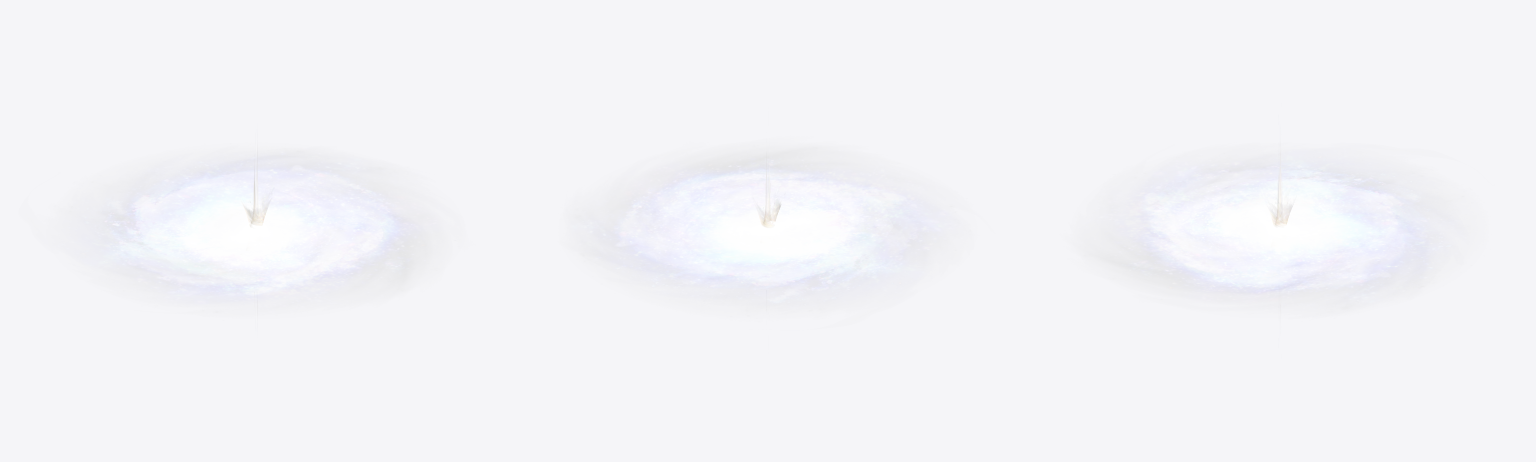
File: galaxy1.glb
3 views of the same model, side by side, from view 1: azimuth 30°, elevation 25°; view 2: azimuth 150°, elevation 25°; view 3: azimuth 270°, elevation 25° (orthographic).
Parts seen in each view (by area): view 1: spiral3_plane, spiral2_plane, spiral1_plane, spiral4_plane, spire; view 2: spiral3_plane, spiral2_plane, spiral1_plane, spiral4_plane, spire; view 3: spiral3_plane, spiral2_plane, spiral1_plane, spiral4_plane, spire.
Part boxes in pixels (<box>): spiral3_plane: <box>75,161,438,302</box>; spiral2_plane: <box>110,154,426,299</box>; spiral1_plane: <box>69,151,423,312</box>; spiral4_plane: <box>148,189,384,279</box>; spire: <box>242,146,271,316</box>; spiral3_plane: <box>591,154,937,306</box>; spiral2_plane: <box>589,149,928,281</box>; spiral1_plane: <box>575,148,952,316</box>; spiral4_plane: <box>679,177,905,271</box>; spire: <box>753,167,780,227</box>; spiral3_plane: <box>1110,154,1451,307</box>; spiral2_plane: <box>1095,161,1429,298</box>; spiral1_plane: <box>1084,156,1463,309</box>; spiral4_plane: <box>1167,173,1381,272</box>; spire: <box>1263,147,1292,315</box>.
Bounding box in the file's own units: 500 × 494 × 500.
5 materials, 5 textured.
